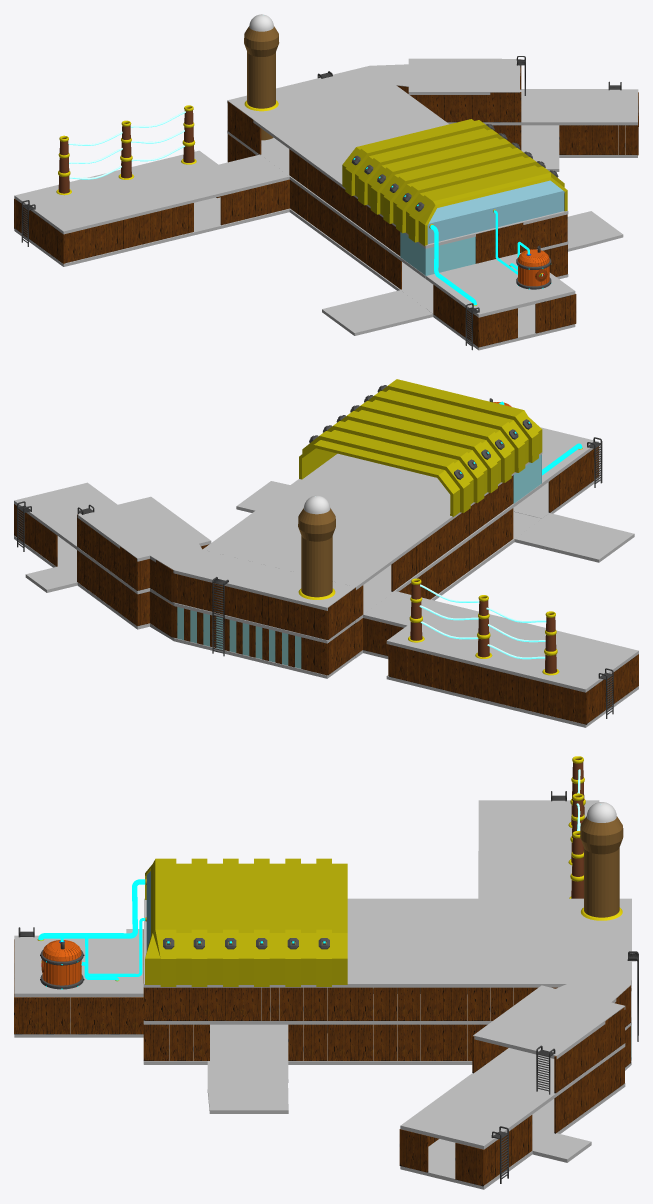
The model's file is research area.fbx.
3 renders of one model, top to bottom at view 1: azimuth 30°, elevation 25°; view 2: azimuth 150°, elevation 25°; view 3: azimuth 270°, elevation 25°, orthographic. The views are drawn at different scales.
Parts seen in each view (by area): view 1: Cube.027, Cube.028, Cube.035, Cube, Cube.038, Cube.020, Cube.015, Cube.042, Cube.034, Cube.029, Cylinder.001, Cube.008 (+15 smaller); view 2: Cube.028, Cube.027, Cube.035, Cube, Cube.021, Cube.043, Cube.042, Cube.015, Cylinder.001, Cube.053, Cube.054, Cube.012 (+15 smaller); view 3: Cube.028, Cube.027, Cube.035, Cube, Cube.031, Cube.004, Cube.002, Cube.030, Cylinder.001, Cube.012, Cube.039, Cube.003 (+8 smaller).
Part boxes in pixels (x1=…): Cube.027: x1=14, y1=89, x2=638, y2=317; Cube.028: x1=227, y1=58, x2=568, y2=248; Cube.035: x1=342, y1=119, x2=567, y2=245; Cube: x1=14, y1=125, x2=637, y2=350; Cube.038: x1=427, y1=180, x2=564, y2=244; Cube.020: x1=64, y1=203, x2=193, y2=263; Cube.015: x1=290, y1=180, x2=401, y2=289; Cube.042: x1=289, y1=149, x2=400, y2=255; Cube.034: x1=410, y1=92, x2=521, y2=122; Cube.029: x1=475, y1=214, x2=567, y2=263; Cylinder.001: x1=244, y1=26, x2=279, y2=140; Cube.008: x1=559, y1=125, x2=638, y2=154; Cube.028: x1=77, y1=452, x2=542, y2=610; Cube.027: x1=14, y1=427, x2=638, y2=692; Cube.035: x1=299, y1=379, x2=542, y2=516; Cube: x1=14, y1=477, x2=638, y2=727; Cube.021: x1=389, y1=644, x2=587, y2=724; Cube.043: x1=171, y1=569, x2=327, y2=639; Cube.042: x1=391, y1=475, x2=513, y2=591; Cube.015: x1=399, y1=508, x2=513, y2=599; Cylinder.001: x1=298, y1=508, x2=335, y2=597; Cube.053: x1=177, y1=607, x2=301, y2=668; Cube.054: x1=184, y1=608, x2=294, y2=667; Cube.012: x1=77, y1=550, x2=136, y2=625; Cube.028: x1=143, y1=898, x2=631, y2=1058; Cube.027: x1=14, y1=800, x2=631, y2=1149; Cube.035: x1=145, y1=858, x2=347, y2=986; Cube: x1=14, y1=929, x2=631, y2=1189; Cube.031: x1=288, y1=987, x2=557, y2=1020; Cube.004: x1=288, y1=1024, x2=487, y2=1060; Cube.002: x1=14, y1=997, x2=143, y2=1034; Cube.030: x1=144, y1=987, x2=288, y2=1020; Cylinder.001: x1=580, y1=816, x2=623, y2=917; Cube.012: x1=554, y1=1047, x2=624, y2=1133; Cube.039: x1=554, y1=1007, x2=624, y2=1093; Cube.003: x1=145, y1=1024, x2=209, y2=1060.
Size of the model in its own units: 10274 by 2618 by 7762.
